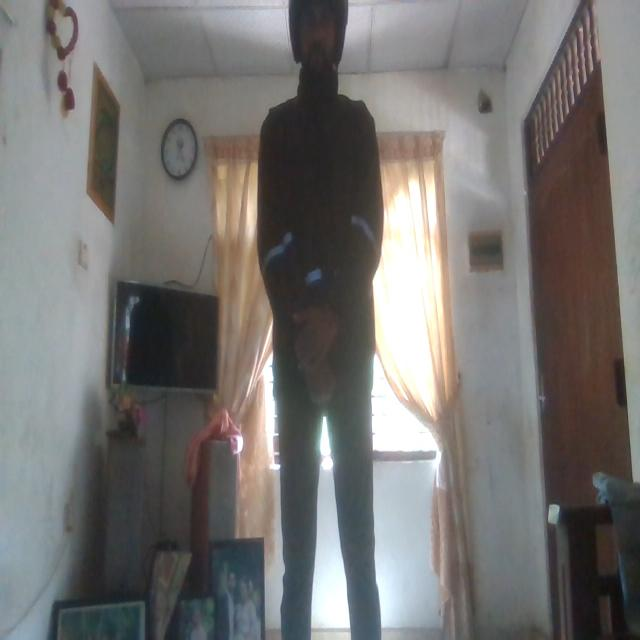Helmet_Wearer: (278, 0, 356, 107)
Jacket_Wearer: (252, 90, 392, 402)
Person: (258, 0, 398, 640)
